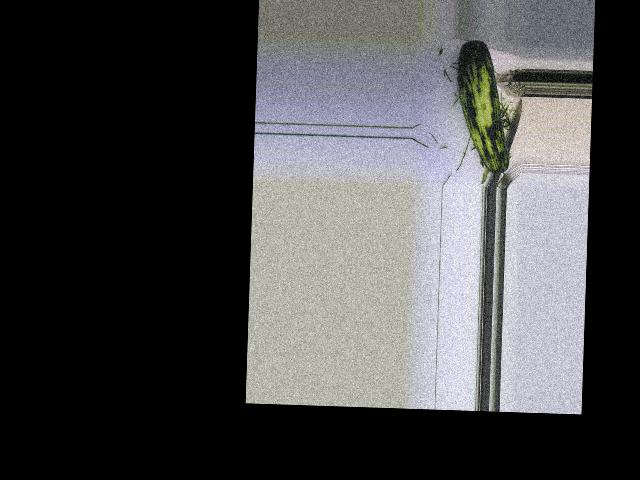cucumber: (454, 39, 513, 174)
